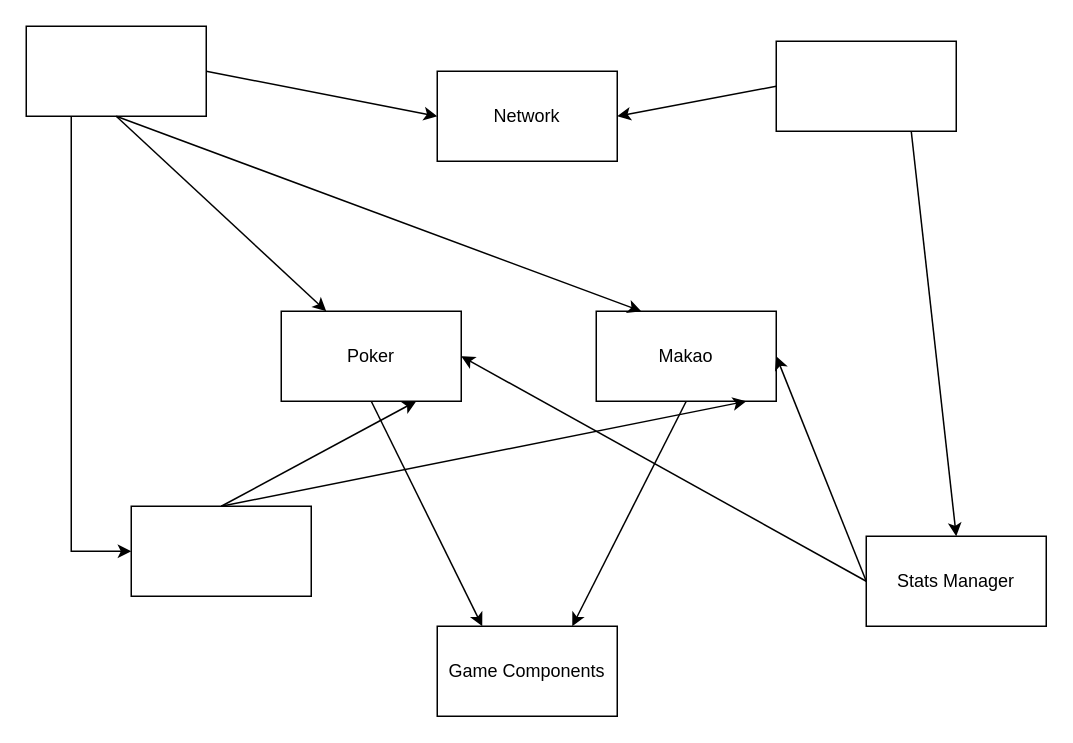
This 1073x743 diagram has some shape labels left out. The centre of each missing label's shape, as x and y in pixels:
"Client Menu" goes at point (865, 85).
"Game Bots" goes at point (220, 550).
"Host Menu" goes at point (115, 70).
